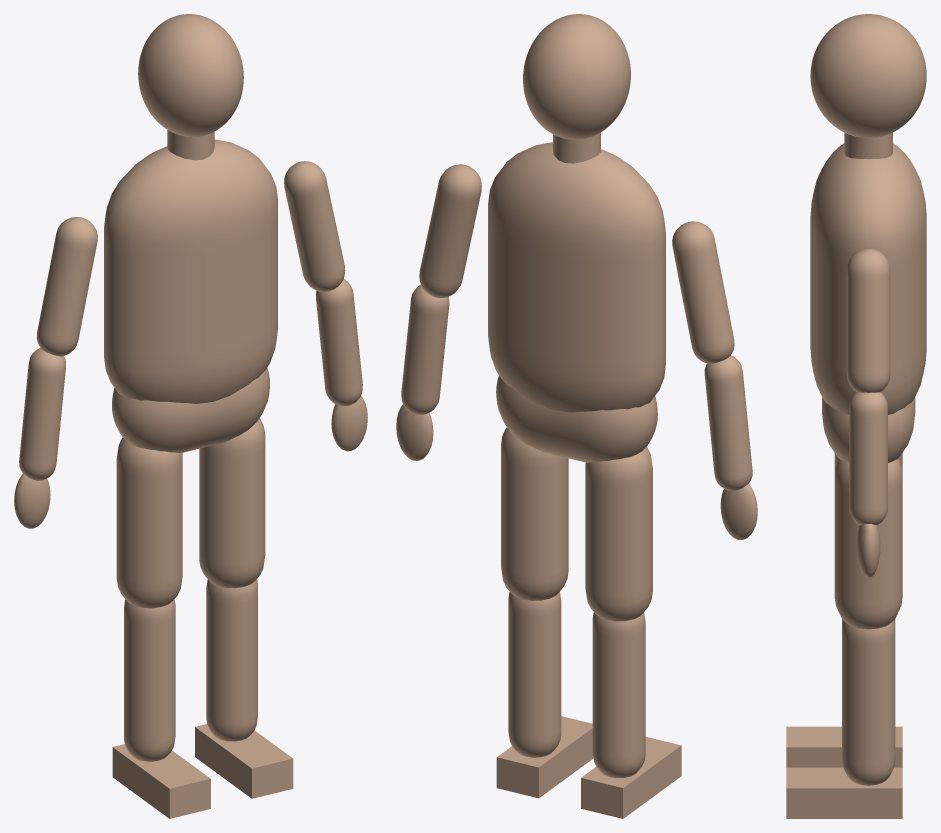
Rendered from character_base.glb.
3 renders of one model, left to right at view 1: azimuth 30°, elevation 25°; view 2: azimuth 150°, elevation 25°; view 3: azimuth 270°, elevation 25°, orthographic. The views are drawn at different scales.
Visible parts, largest first — view 1: Torso, Thigh.R, Head, Thigh.L, Shin.R, Shin.L, Hips, UpperArm.R, UpperArm.L, Forearm.R, Foot.L, Foot.R (+4 smaller); view 2: Torso, Head, Thigh.R, Thigh.L, Shin.L, Shin.R, Hips, UpperArm.R, UpperArm.L, Forearm.R, Forearm.L, Foot.R (+4 smaller); view 3: Torso, Head, Shin.L, Thigh.L, UpperArm.L, Foot.L, Forearm.L, Foot.R, Hips, Neck, Hand.L.
Boxes of the visible parts, <box> form: Torso: <box>104,139,277,403</box>; Thigh.R: <box>116,437,182,608</box>; Head: <box>138,14,243,136</box>; Thigh.L: <box>199,418,265,588</box>; Shin.R: <box>124,599,175,761</box>; Shin.L: <box>206,579,257,741</box>; Hips: <box>112,368,269,452</box>; UpperArm.R: <box>36,217,97,356</box>; UpperArm.L: <box>284,161,345,291</box>; Forearm.R: <box>19,348,65,480</box>; Foot.L: <box>195,724,293,798</box>; Foot.R: <box>112,744,210,818</box>; Torso: <box>488,142,665,412</box>; Head: <box>523,14,630,139</box>; Thigh.R: <box>585,447,652,621</box>; Thigh.L: <box>501,427,568,600</box>; Shin.L: <box>508,592,561,757</box>; Shin.R: <box>592,612,645,777</box>; Hips: <box>496,376,657,462</box>; UpperArm.R: <box>672,221,734,363</box>; UpperArm.L: <box>419,164,481,298</box>; Forearm.R: <box>704,355,752,491</box>; Forearm.L: <box>401,284,449,414</box>; Foot.R: <box>581,737,681,818</box>; Torso: <box>810,143,926,414</box>; Head: <box>810,14,926,137</box>; Shin.L: <box>842,620,895,785</box>; Thigh.L: <box>834,459,902,629</box>; UpperArm.L: <box>846,248,890,392</box>; Foot.L: <box>786,767,902,818</box>; Forearm.L: <box>849,392,887,525</box>; Foot.R: <box>786,726,902,767</box>; Hips: <box>822,397,915,462</box>; Neck: <box>844,132,892,159</box>; Hand.L: <box>856,524,880,577</box>.
Bounding box in the file's own units: 0.854 × 1.75 × 0.29.
